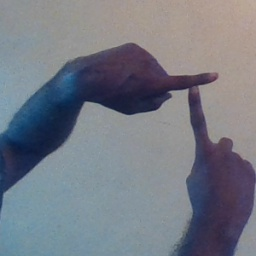T: (135, 49, 243, 158)
